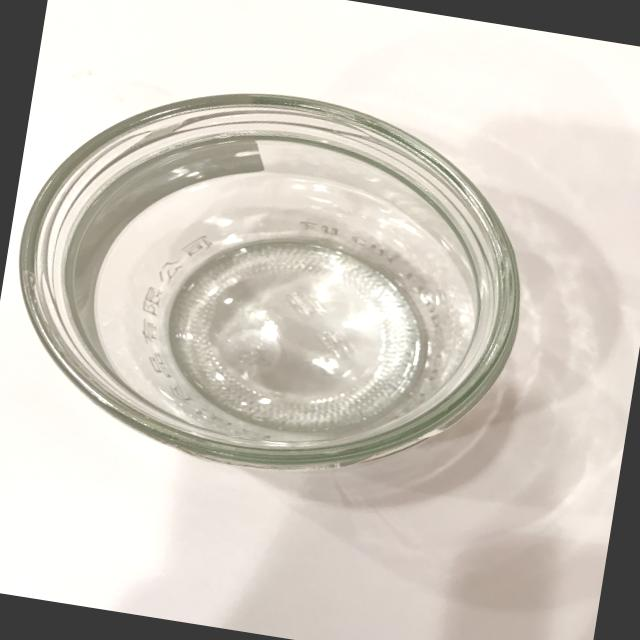Glass: (0, 52, 556, 520)
